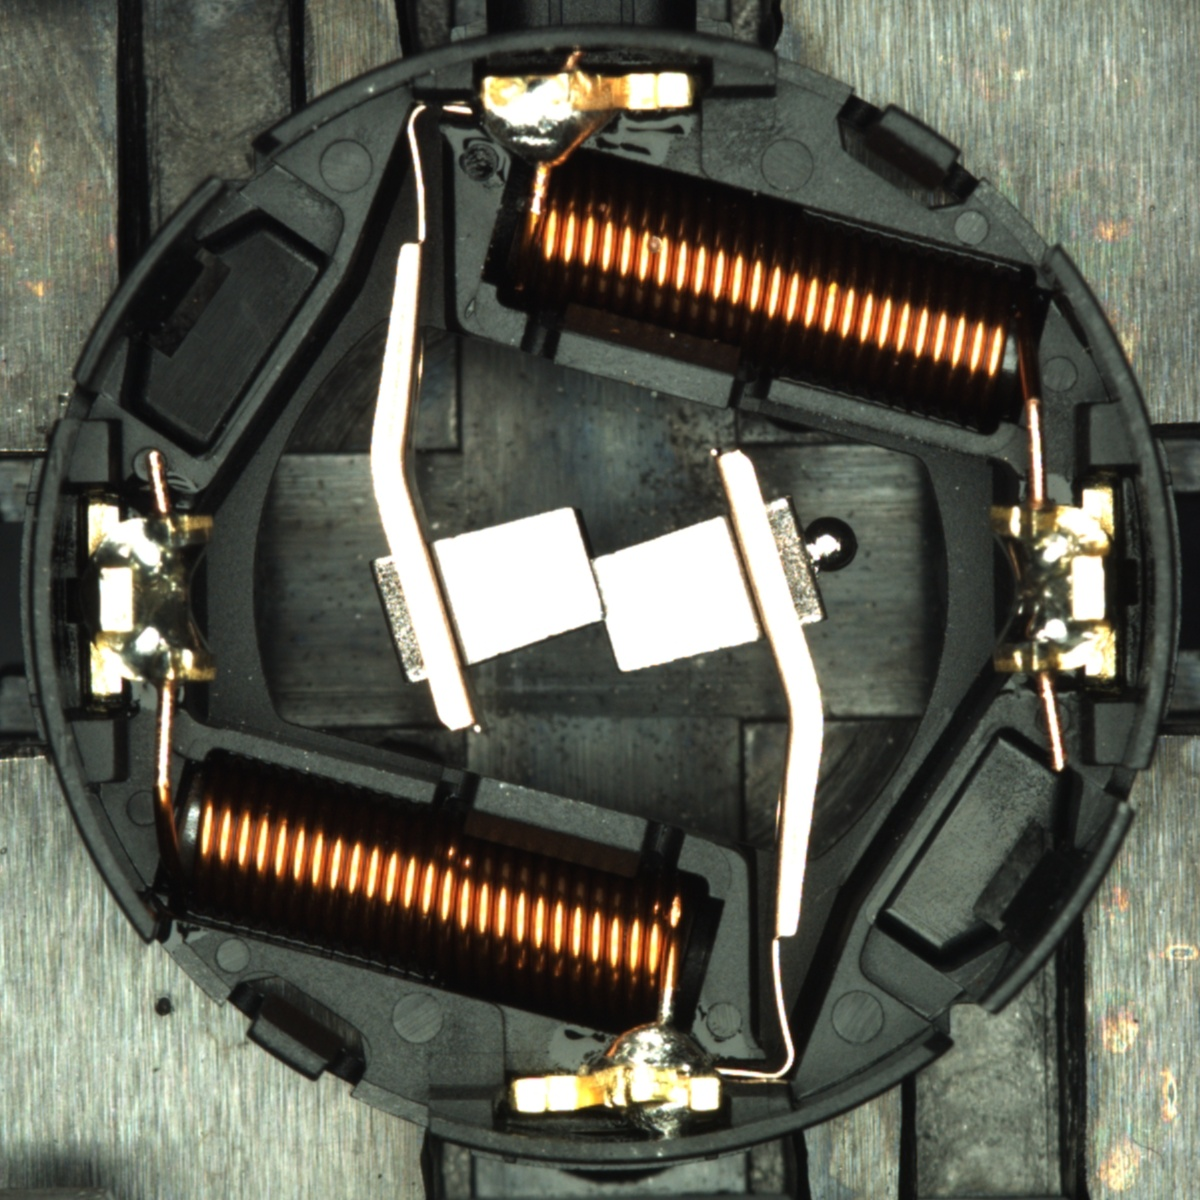1: (258, 55, 487, 279), (716, 953, 945, 1177)
2: (716, 55, 945, 279), (258, 953, 487, 1177)
3: (28, 279, 258, 504), (945, 728, 1175, 953)
4: (258, 279, 487, 504), (716, 728, 945, 953)
5: (487, 167, 716, 392), (487, 840, 716, 1065)
6: (716, 279, 945, 504), (258, 728, 487, 953)
7: (945, 279, 1175, 504), (28, 728, 258, 953)
chau_dien: (81, 497, 220, 698), (982, 487, 1122, 685)
hat_chi: (802, 516, 858, 573)
tay_choi: (479, 69, 697, 172), (509, 1017, 723, 1116)
thanh_de: (956, 786, 1142, 1031), (59, 165, 244, 404)
